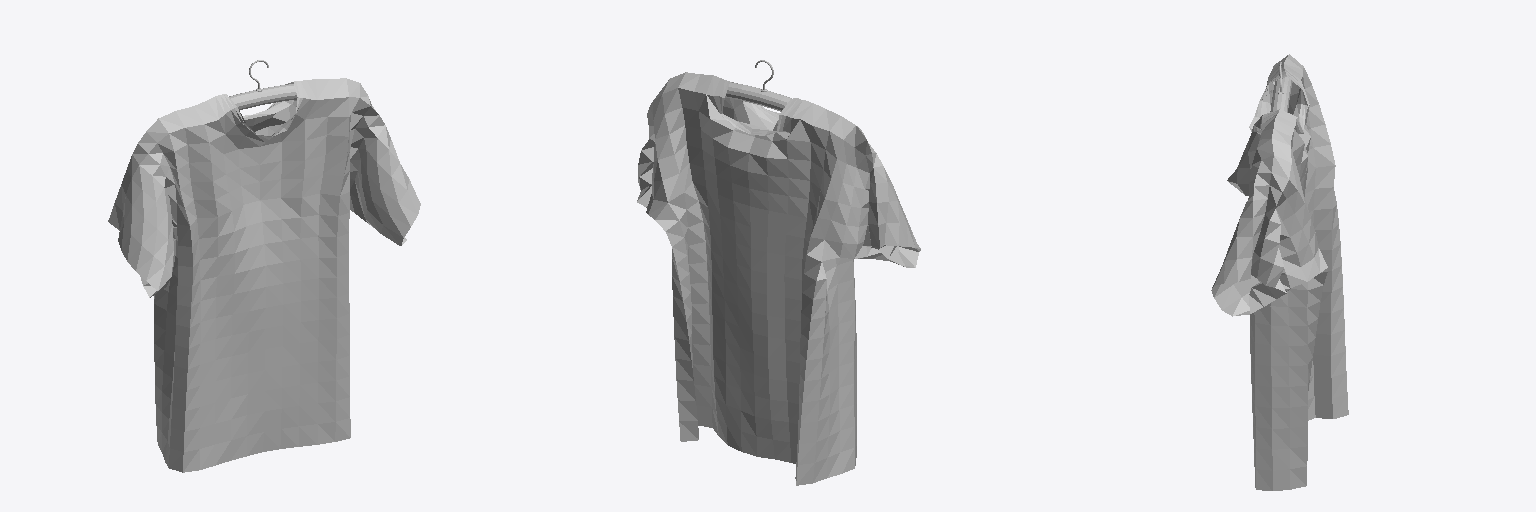
3 views of the same model, side by side, from view 1: azimuth 30°, elevation 25°; view 2: azimuth 150°, elevation 25°; view 3: azimuth 270°, elevation 25° (orthographic).
Visible parts, largest first — view 1: Arch_44__041_18, Arch_44__041_19; view 2: Arch_44__041_18, Arch_44__041_19; view 3: Arch_44__041_18, Arch_44__041_19.
Part boxes in pixels (bbox=[...]): Arch_44__041_18: bbox=[108, 78, 420, 472]; Arch_44__041_19: bbox=[229, 60, 304, 110]; Arch_44__041_18: bbox=[637, 72, 920, 485]; Arch_44__041_19: bbox=[725, 60, 791, 111]; Arch_44__041_18: bbox=[1211, 54, 1348, 490]; Arch_44__041_19: bbox=[1270, 62, 1292, 116].
Bounding box in the file's own units: 28.99 × 39.11 × 12.51.